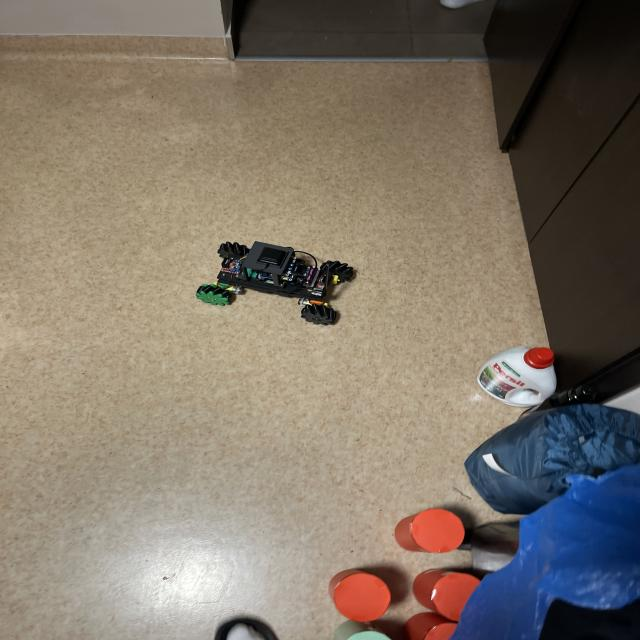robot: (196, 241, 353, 325)
